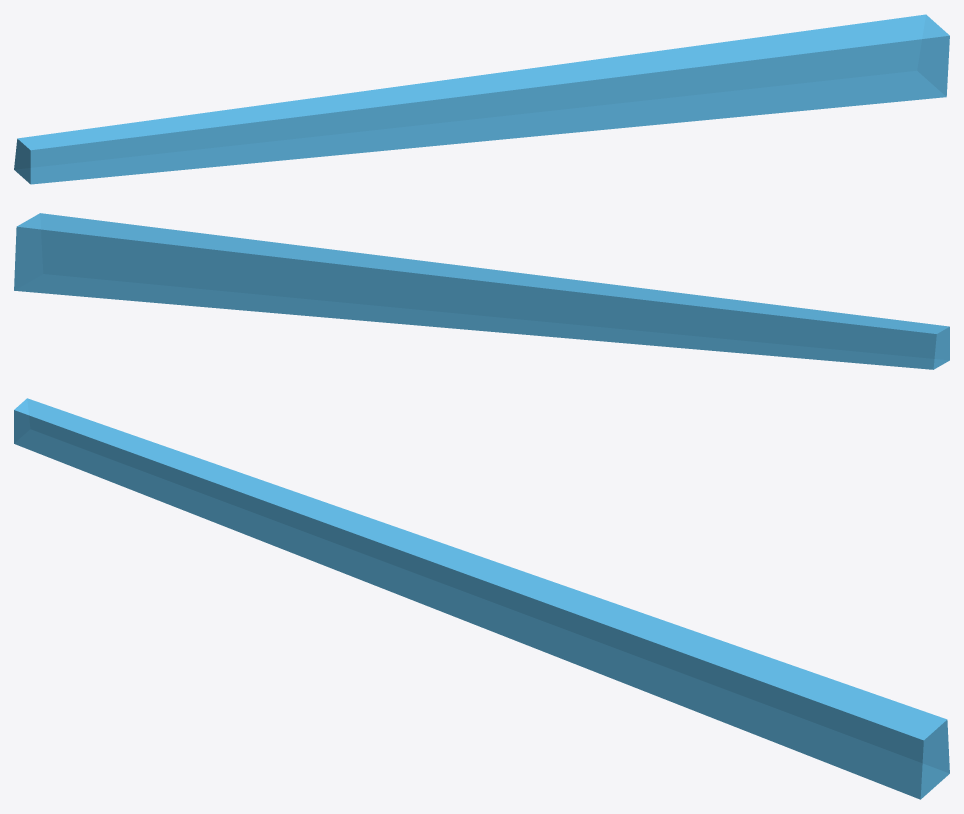
File: Event_420094457_HErechit_76.fbx
3 views of the same model, one above another, from view 1: azimuth 30°, elevation 25°; view 2: azimuth 150°, elevation 25°; view 3: azimuth 330°, elevation 25° (orthographic).
Visible parts, largest first — view 1: Model; view 2: Model; view 3: Model.
Boxes of the visible parts, x1,y1,x2,y2 form: Model: (14,14,949,184); Model: (14,213,949,369); Model: (14,398,949,799).
Bounding box in the file's own units: 8.38 × 1.5 × 0.4682.
